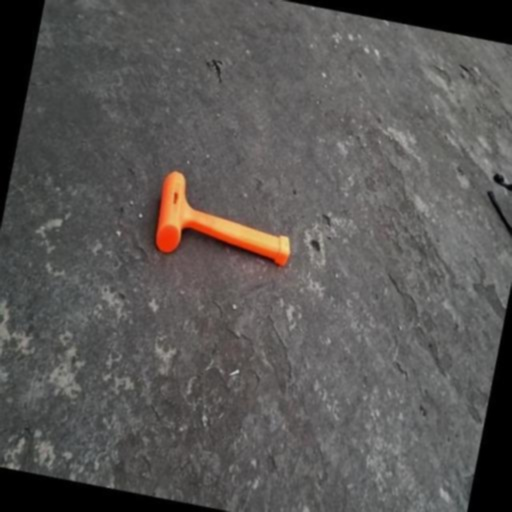mallet: (150, 170, 300, 278)
